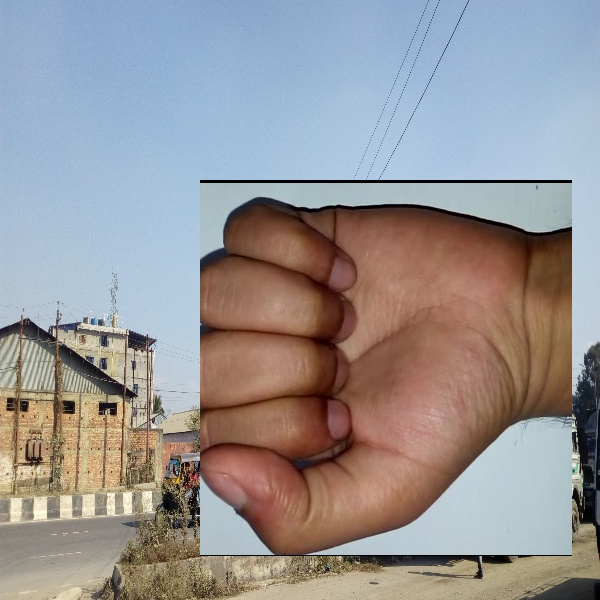A: (200, 180, 572, 556)
